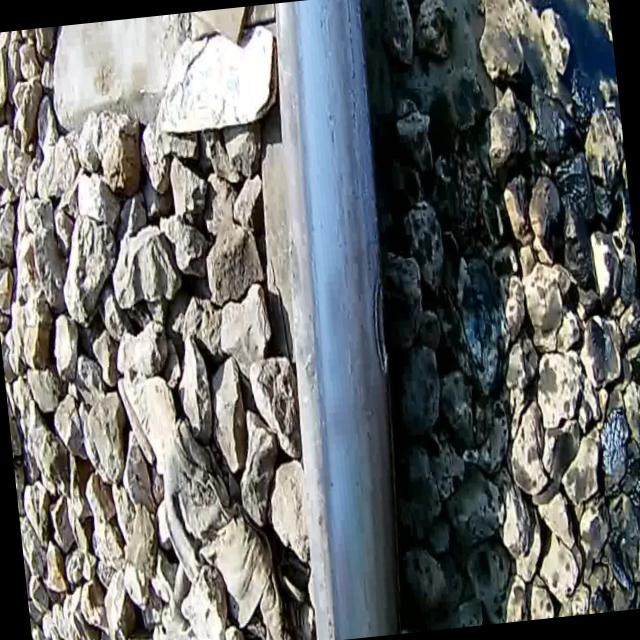Shellings: (306, 467, 343, 640), (335, 0, 367, 141), (348, 0, 377, 127)
Squats: (361, 266, 402, 384)
